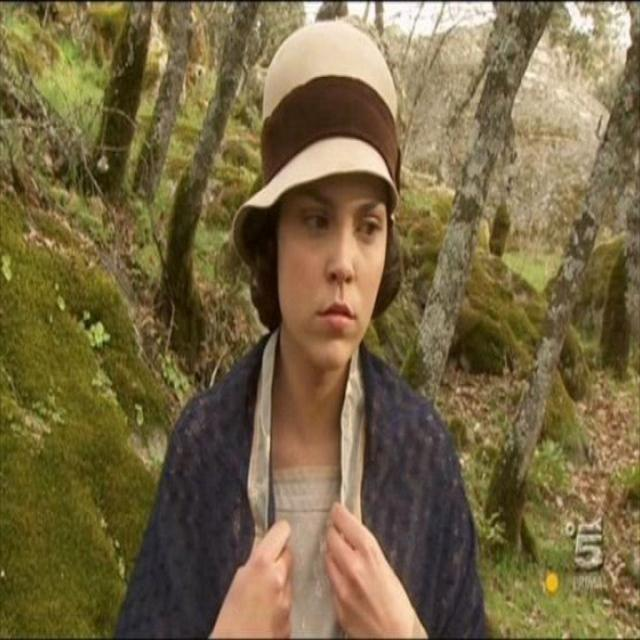Hat: (232, 14, 400, 273)
